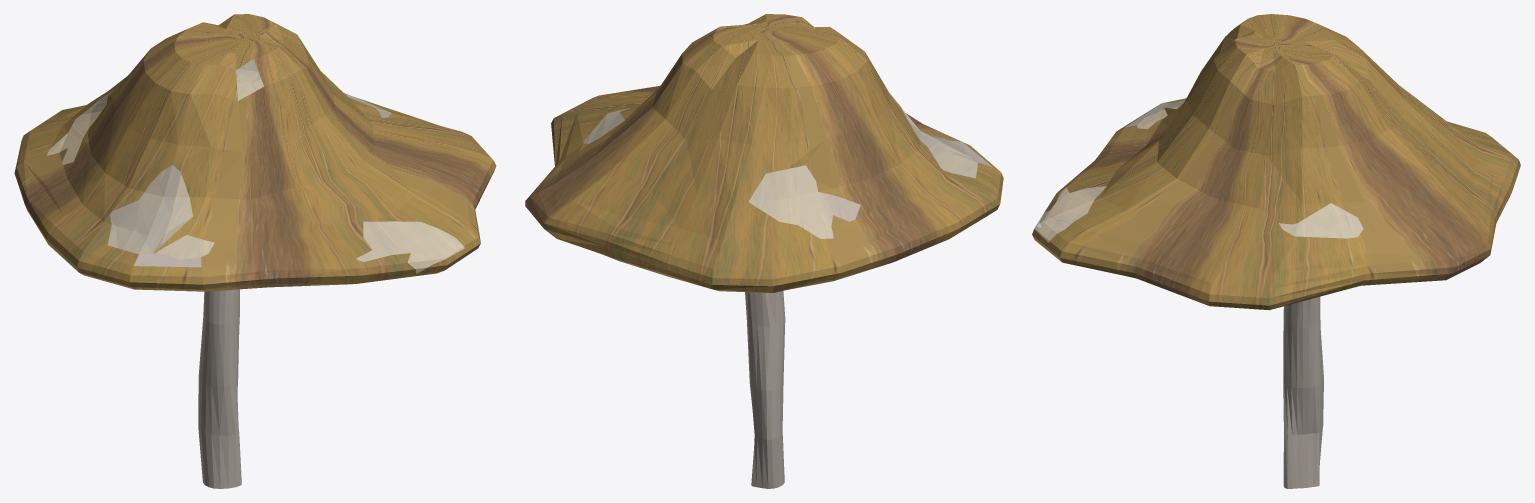
The model's file is more low poly mushroom.fbx.
The picture shows the model from 3 angles, left to right: view 1: azimuth 30°, elevation 25°; view 2: azimuth 150°, elevation 25°; view 3: azimuth 270°, elevation 25°; orthographic projection.
Parts seen in each view (by area): view 1: pSphere1; view 2: pSphere1; view 3: pSphere1.
Boxes of the visible parts, x1,y1,x2,y2 form: pSphere1: (14, 14, 496, 488); pSphere1: (525, 14, 1003, 488); pSphere1: (1032, 14, 1520, 488).
Size of the model in its own units: 2.48 by 2.5 by 2.49.
